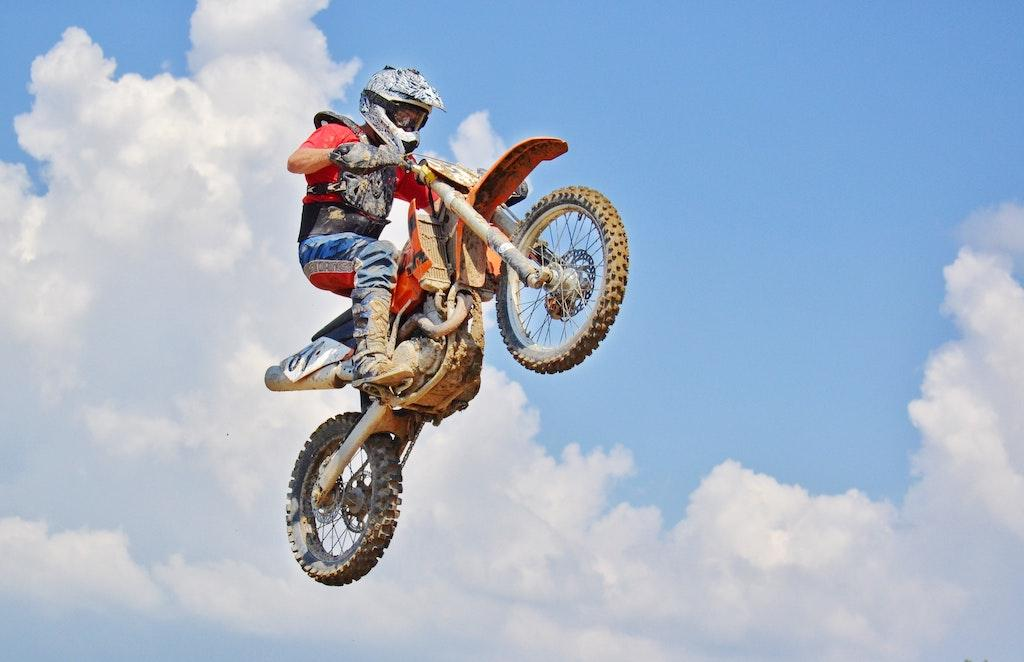helmet: (359, 64, 449, 160)
